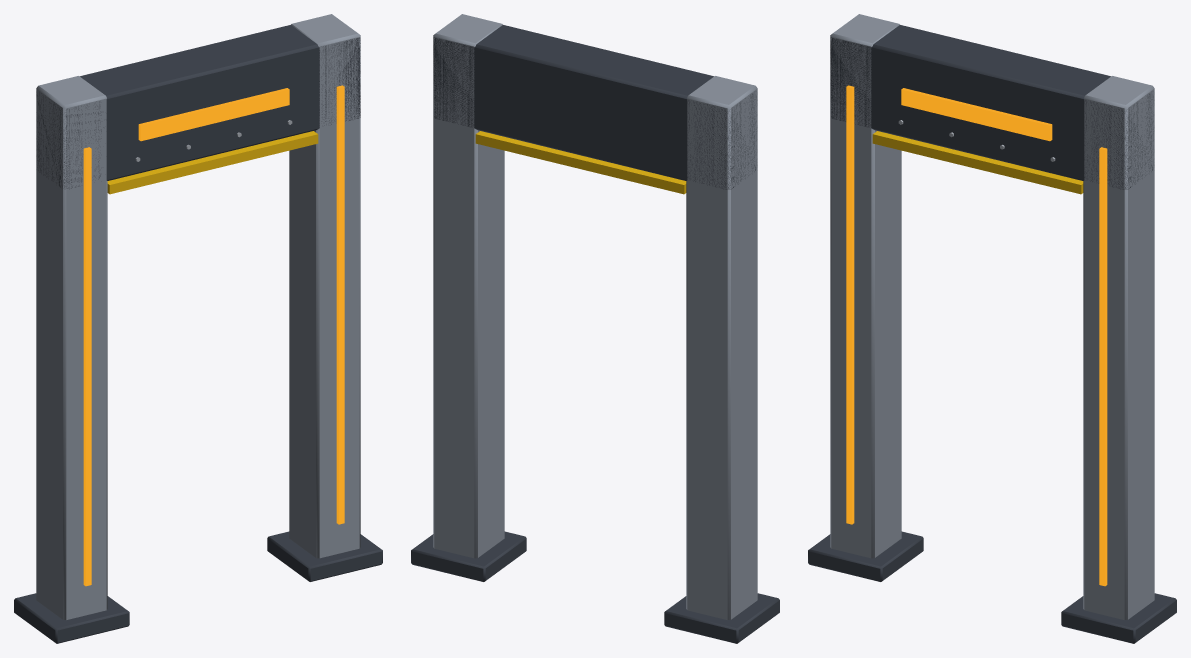
Rendered from pillar_bulkhead_frame.glb.
The picture shows the model from 3 angles, left to right: view 1: azimuth 30°, elevation 25°; view 2: azimuth 150°, elevation 25°; view 3: azimuth 330°, elevation 25°; orthographic projection.
Parts seen in each view (by area): view 1: pillar_bulkhead_frame; view 2: pillar_bulkhead_frame; view 3: pillar_bulkhead_frame.
Boxes of the visible parts, x1,y1,x2,y2 form: pillar_bulkhead_frame: [14, 14, 382, 643]; pillar_bulkhead_frame: [411, 14, 779, 643]; pillar_bulkhead_frame: [808, 14, 1176, 643].
Bounding box in the file's own units: 2.2 × 3.4 × 0.5.
